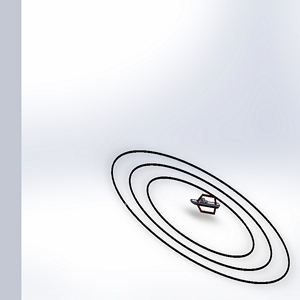circle: (98, 141, 294, 288)
submarine: (185, 188, 227, 226)
